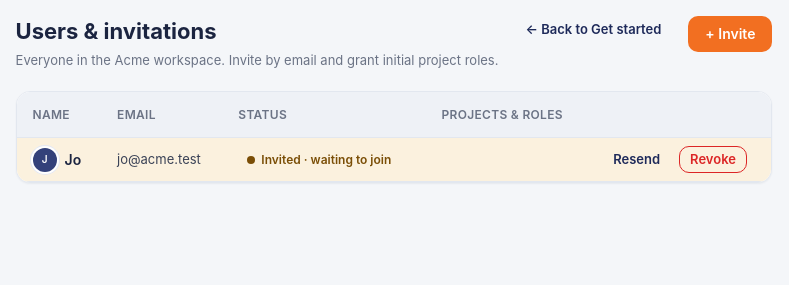
Test: resending or revoking an invitation › says why a revoke failed
Click the button "Revoke".
click(713, 160)  # box [679, 146, 747, 173]
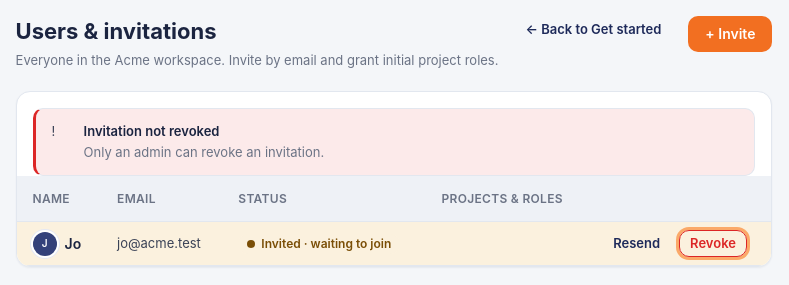
Check: the text "Invitation not revoked" is shown, box [84, 123, 220, 139]
Check: the text "Only an admin can revoke an invitation." is shown, box [84, 144, 324, 160]
